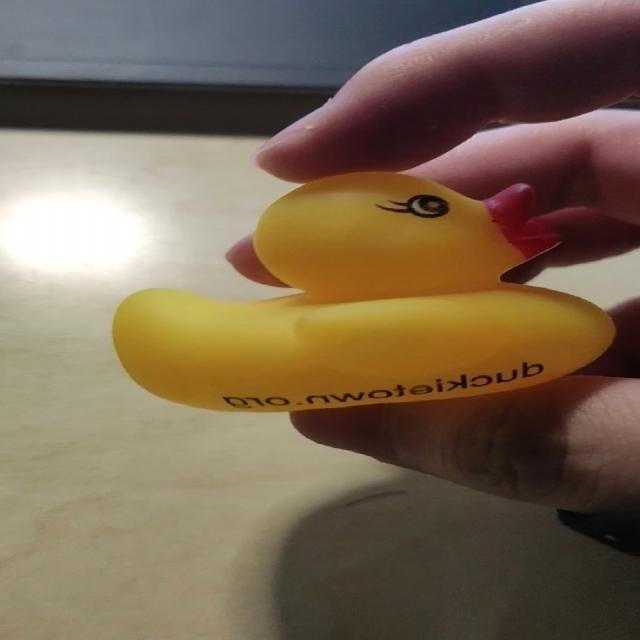rubber-duck: (112, 171, 612, 409)
